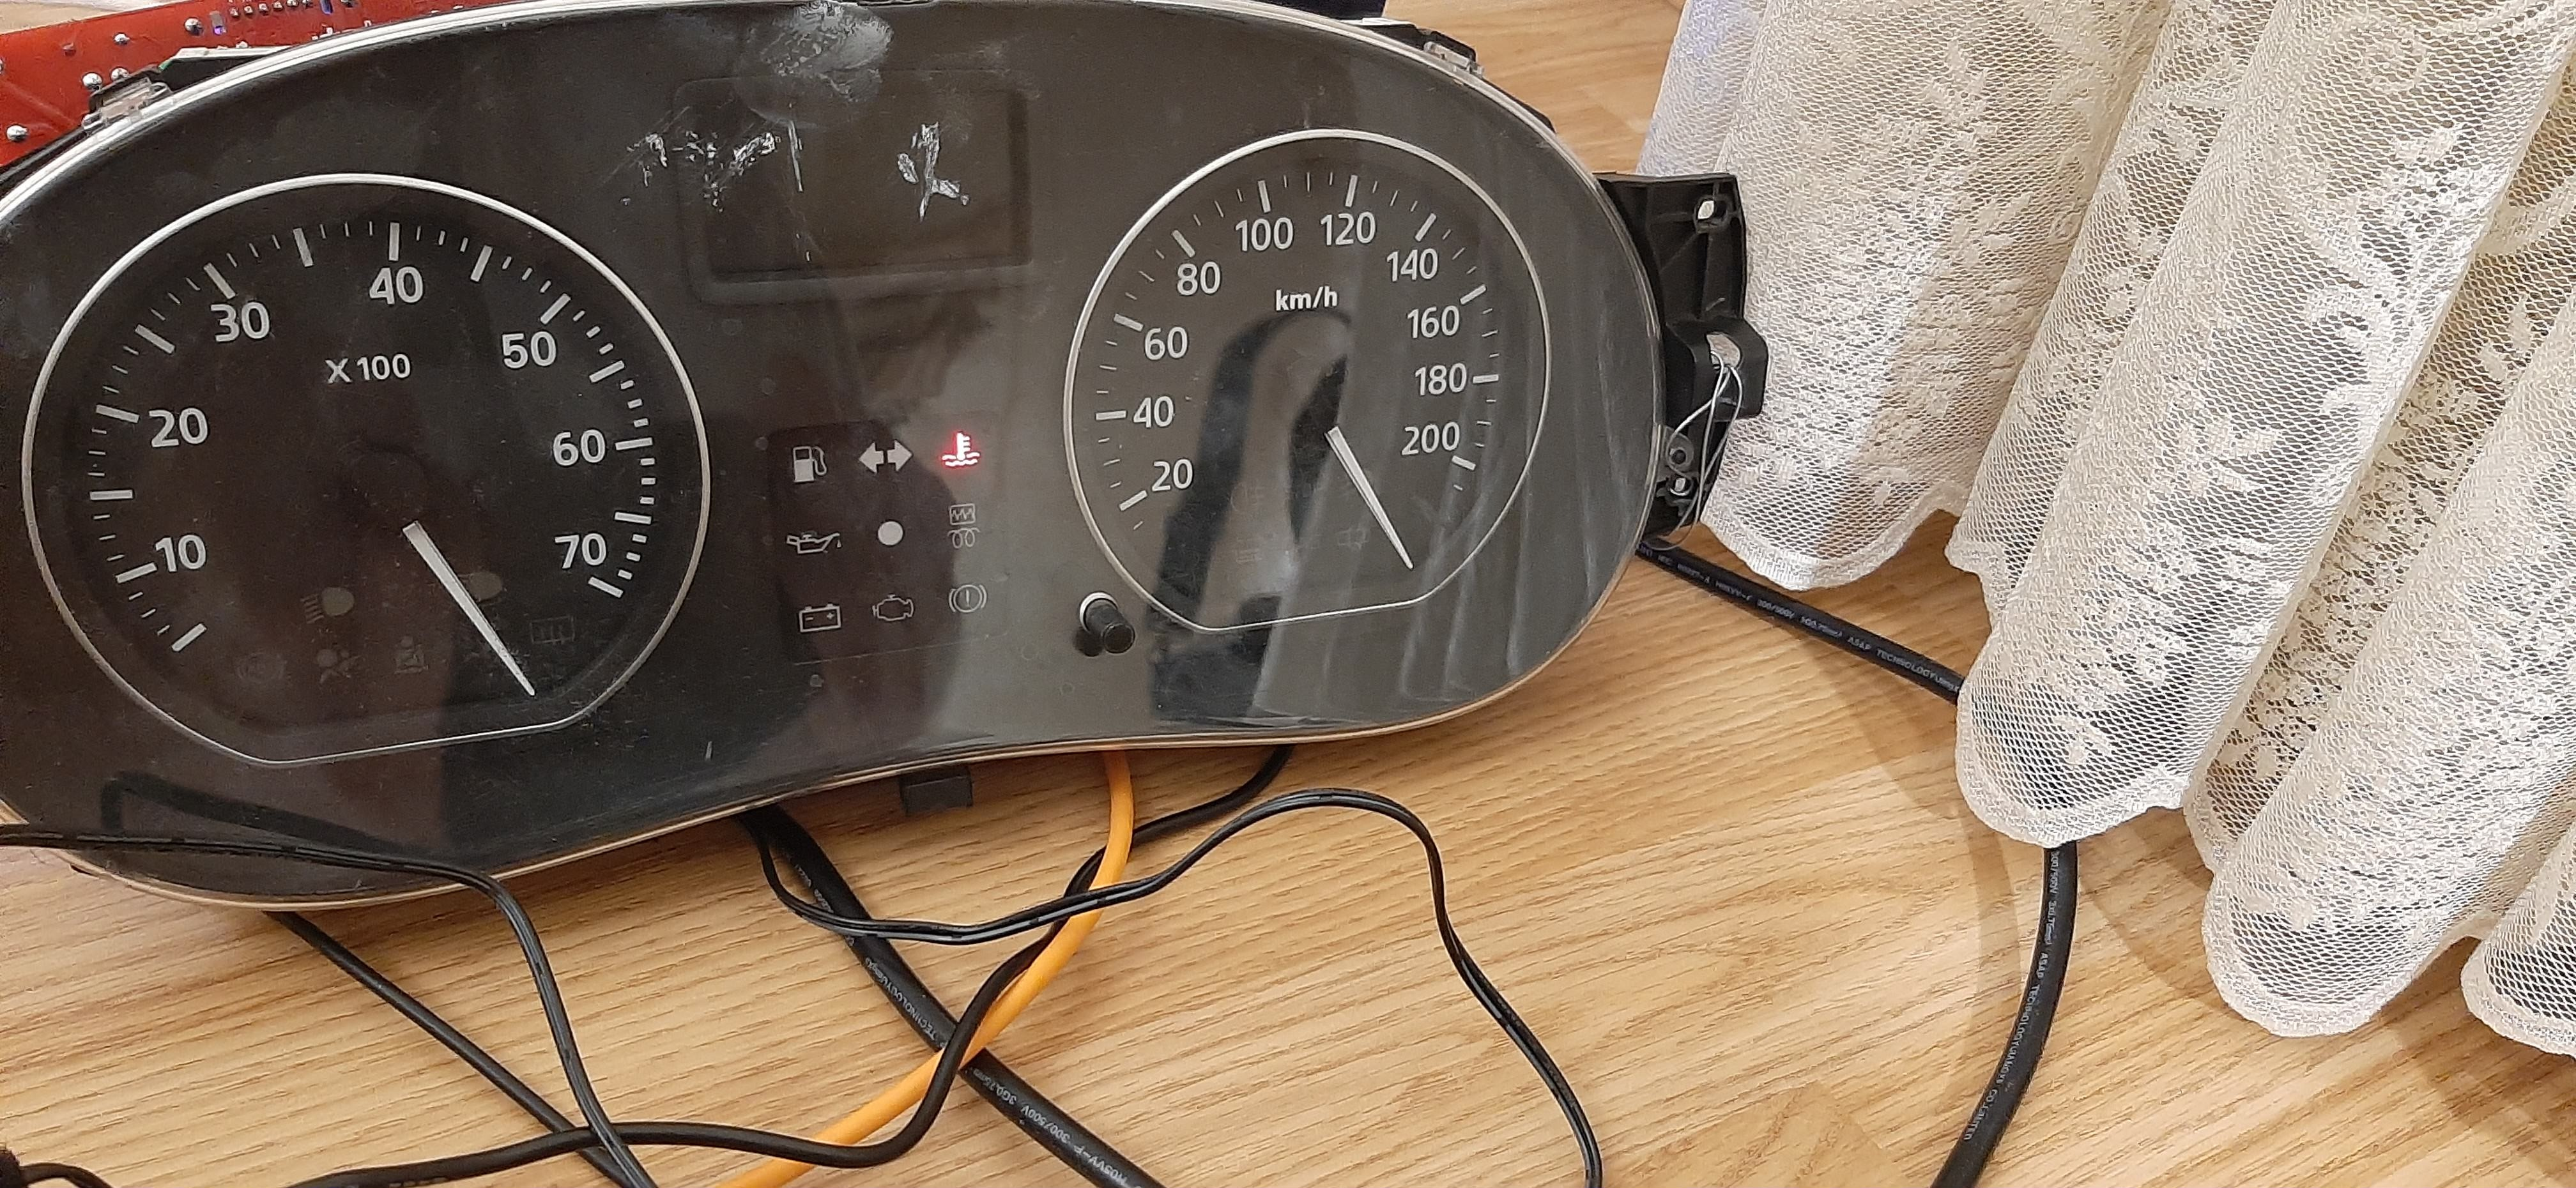Engine Overheating21: (940, 431, 982, 468)
